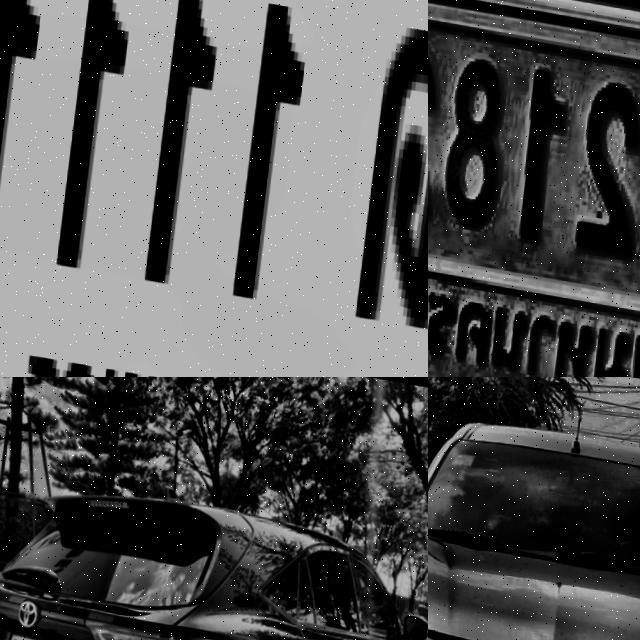license-plate: (0, 0, 428, 377), (428, 0, 640, 377), (0, 625, 69, 640)
